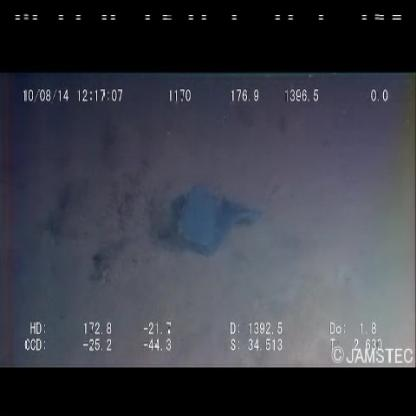Rác: (169, 184, 267, 260)
